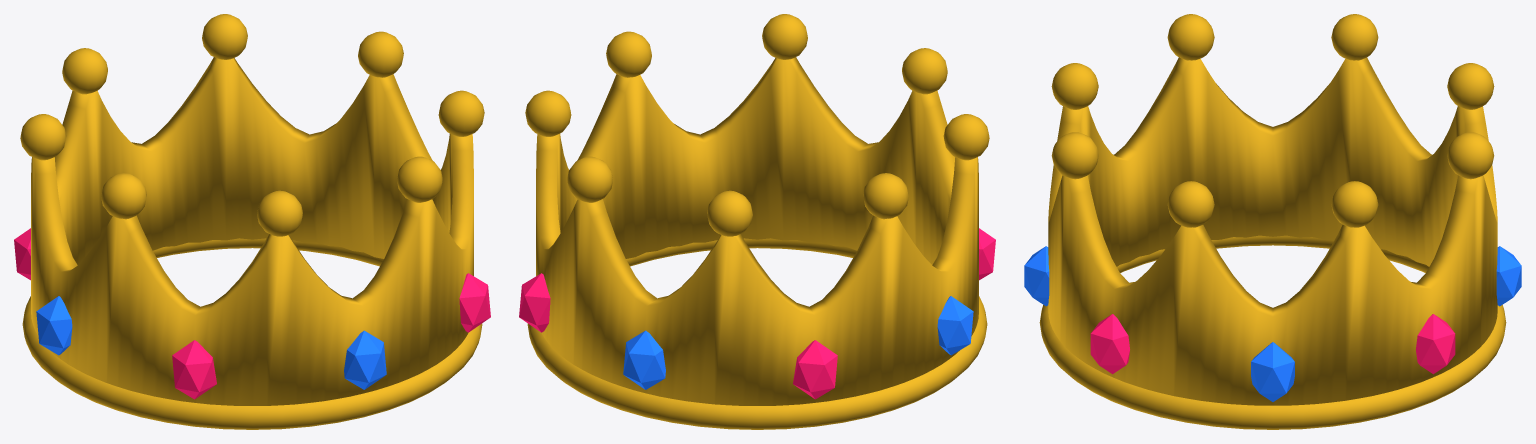
The model's file is corona_rey.glb.
3 views of the same model, side by side, from view 1: azimuth 30°, elevation 25°; view 2: azimuth 150°, elevation 25°; view 3: azimuth 270°, elevation 25° (orthographic).
Parts seen in each view (by area): view 1: corona; view 2: corona; view 3: corona.
Part boxes in pixels (box(x1,y1,x2,y2)): corona: box(14, 14, 490, 429); corona: box(519, 14, 995, 429); corona: box(1024, 14, 1521, 429).
Size of the model in its own units: 1.17 by 0.61 by 1.16.
